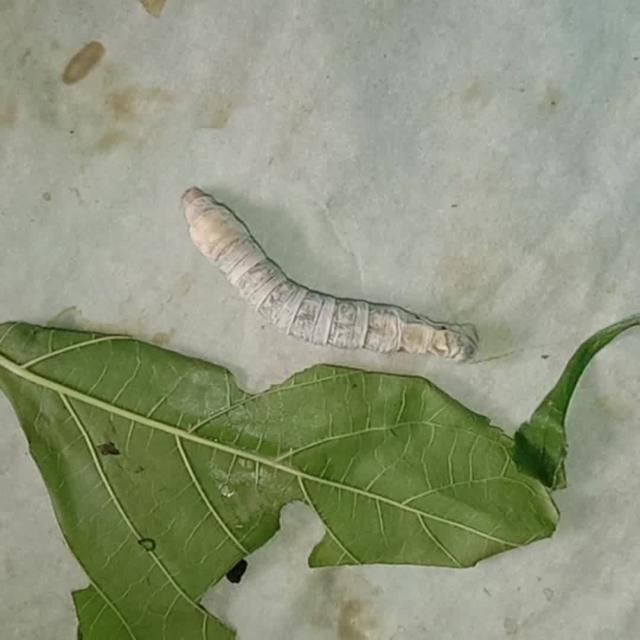Grasserie: (153, 151, 498, 404)
